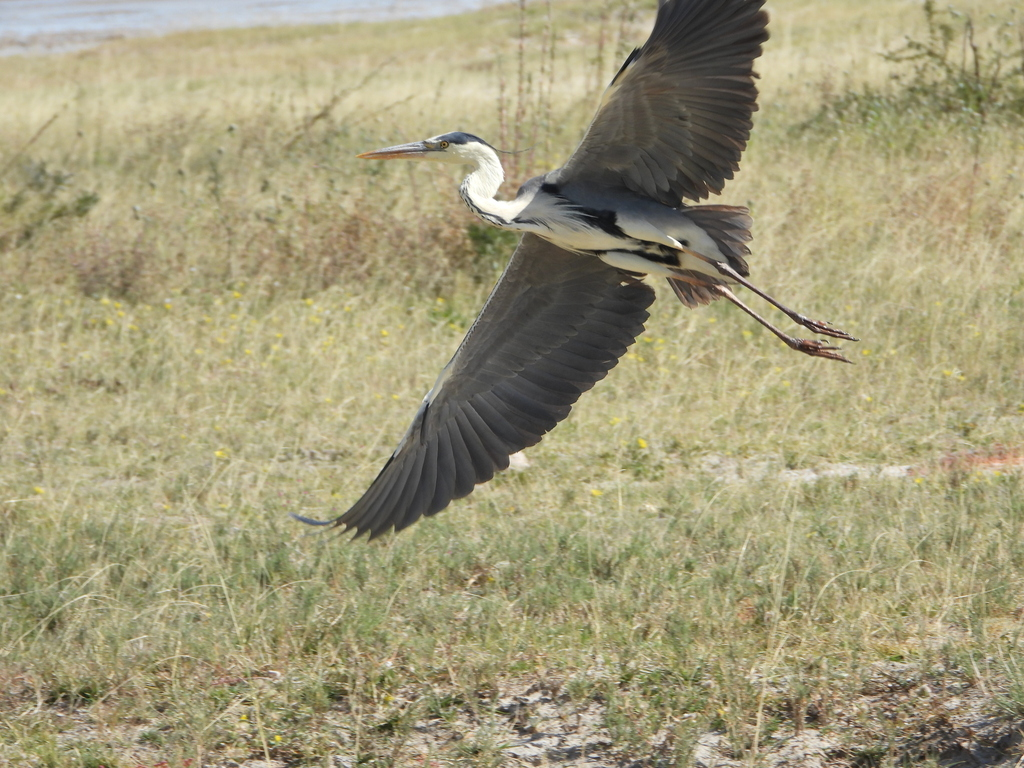heron: (288, 1, 868, 553)
